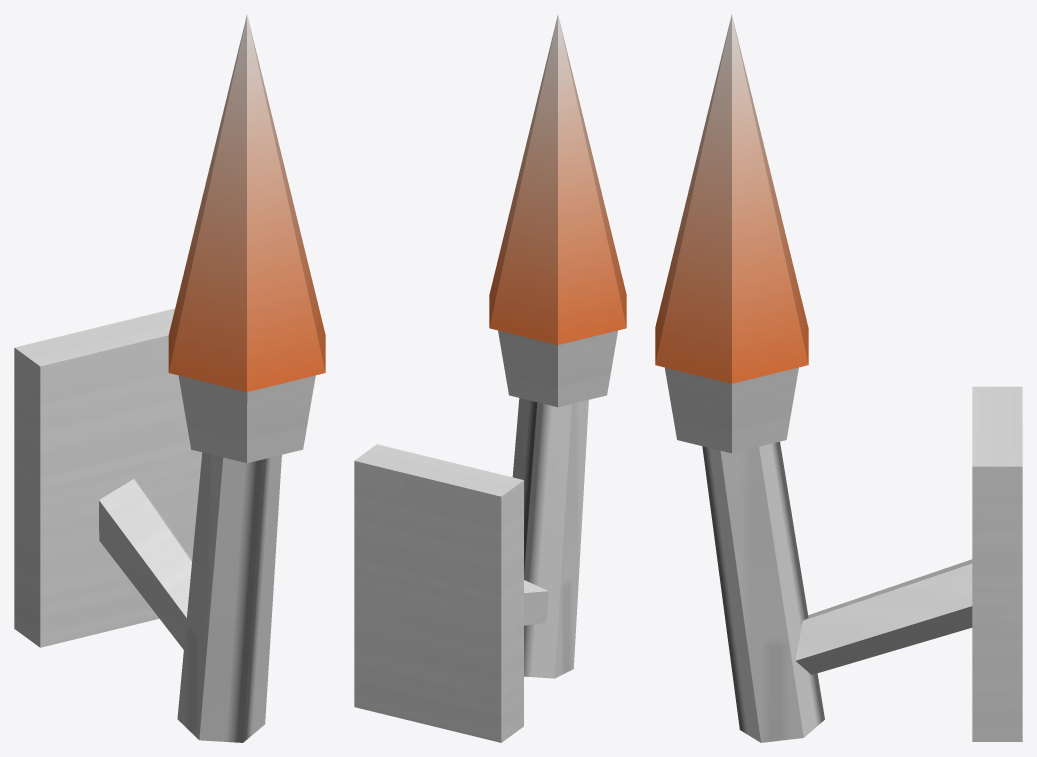
File: wall_torch.obj
The picture shows the model from 3 angles, left to right: view 1: azimuth 30°, elevation 25°; view 2: azimuth 150°, elevation 25°; view 3: azimuth 270°, elevation 25°; orthographic projection. The views are drawn at different scales.
Parts seen in each view (by area): view 1: wall_torch; view 2: wall_torch; view 3: wall_torch.
Part boxes in pixels (left/top/right/bottom): wall_torch: left=14, top=14, right=325, bottom=742; wall_torch: left=354, top=14, right=626, bottom=742; wall_torch: left=655, top=14, right=1022, bottom=742.
Bounding box in the file's own units: 0.15 × 0.6245 × 0.2906.
